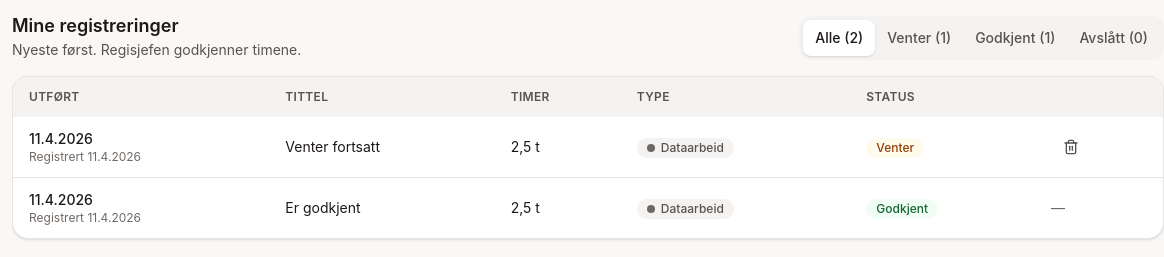
Scenario: WorkLogList › filters by status
The image size is (1164, 257).
Click the radio button labelled "Godkjent (1)" at (1015, 38), box [963,20,1067,56]
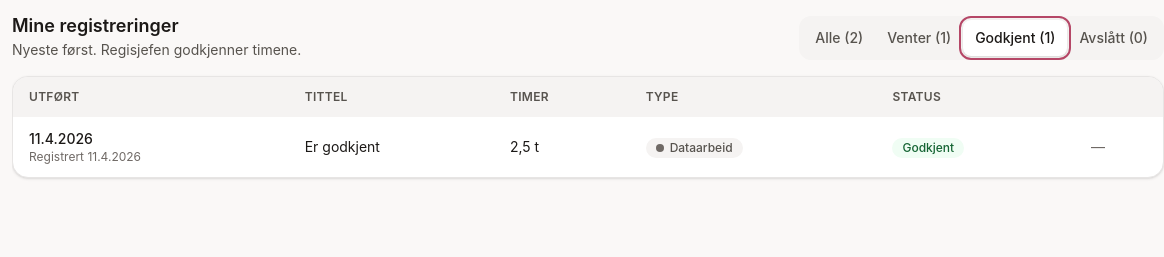
expect the text "Er godkjent" is shown: met, box [305,138,380,155]
expect the text "Venter fortsatt" is gone: met
